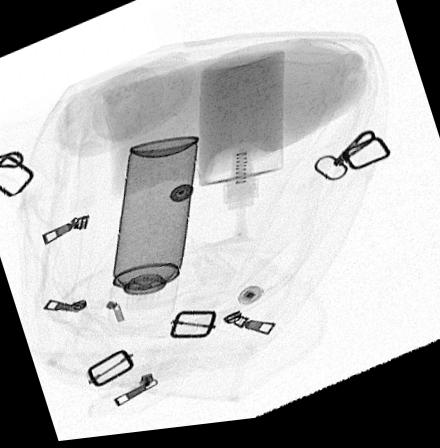Sprayer: (108, 138, 200, 334)
